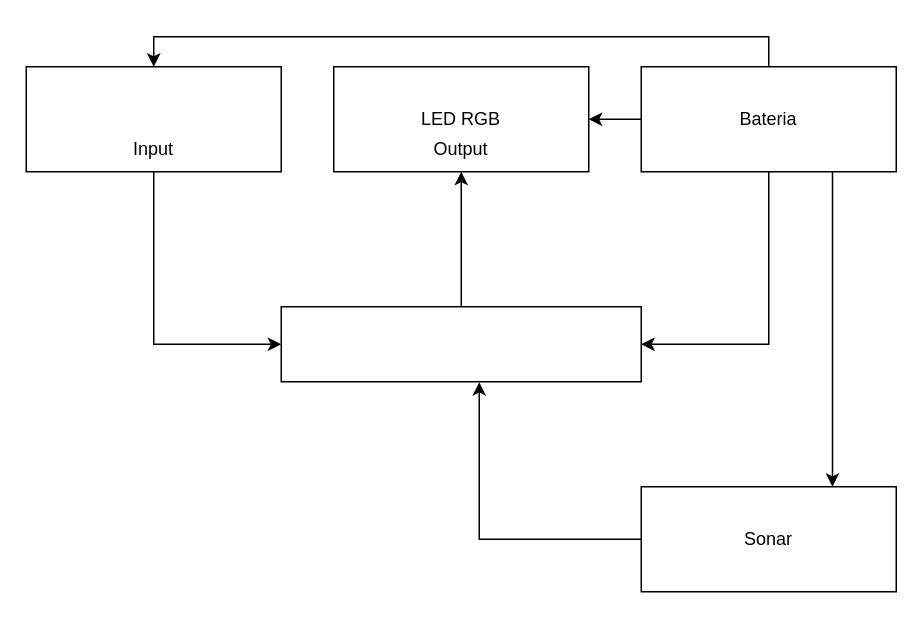
The diagram is 923 pixels wide and 618 high, and some of its shapes have lost their labels. The shapes that lost their labels are listed below. From the top down, each one's box as (x1, y1, x2, y2) in pixels, then its label:
(25, 65, 281, 172): Sensor de Linha
(280, 305, 641, 382): Arduíno
